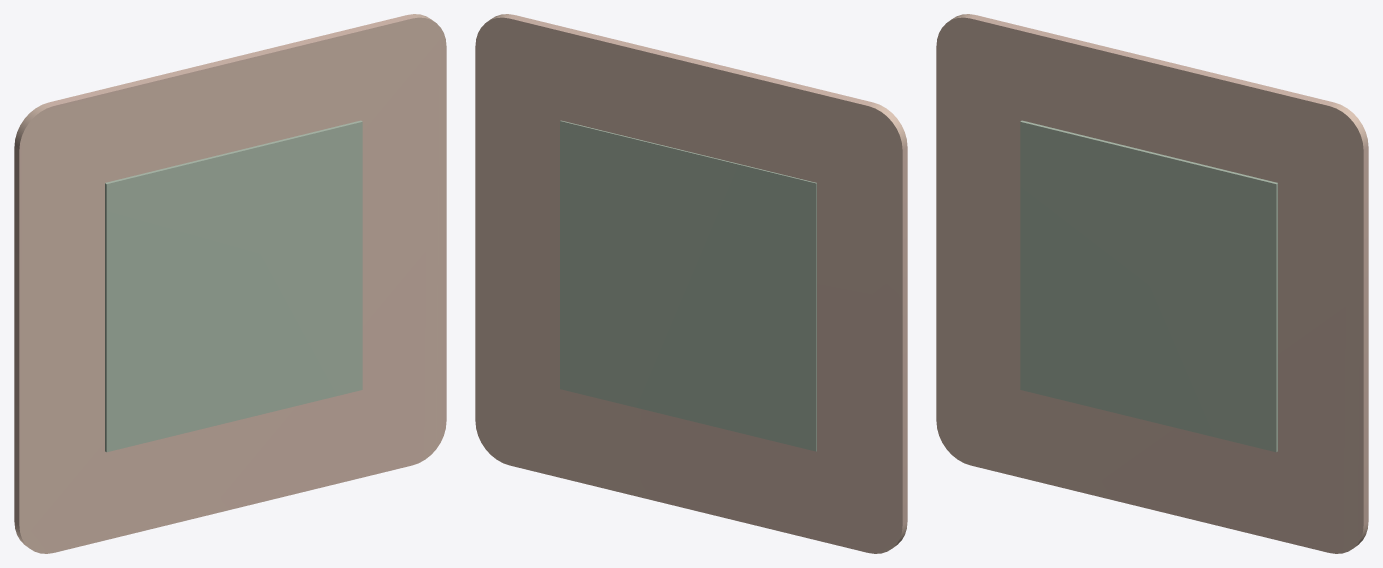
3 views of the same model, side by side, from view 1: azimuth 30°, elevation 25°; view 2: azimuth 150°, elevation 25°; view 3: azimuth 330°, elevation 25° (orthographic).
Parts seen in each view (by area): view 1: rounded_plate, square_step; view 2: rounded_plate, square_step; view 3: rounded_plate, square_step.
Boxes of the visible parts, x1,y1,x2,y2 form: rounded_plate: [14, 14, 446, 553]; square_step: [105, 120, 362, 452]; rounded_plate: [475, 14, 907, 553]; square_step: [560, 120, 816, 451]; rounded_plate: [936, 14, 1368, 553]; square_step: [1020, 120, 1277, 452].
Size of the model in its own units: 0.1 by 0.1 by 0.003.
